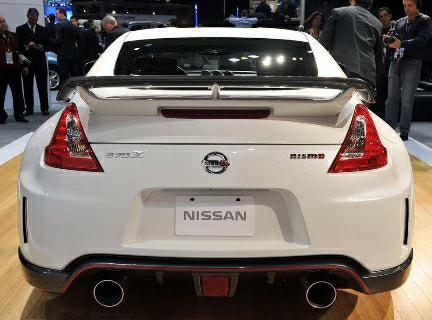日产-GT-R: (15, 24, 419, 320)
